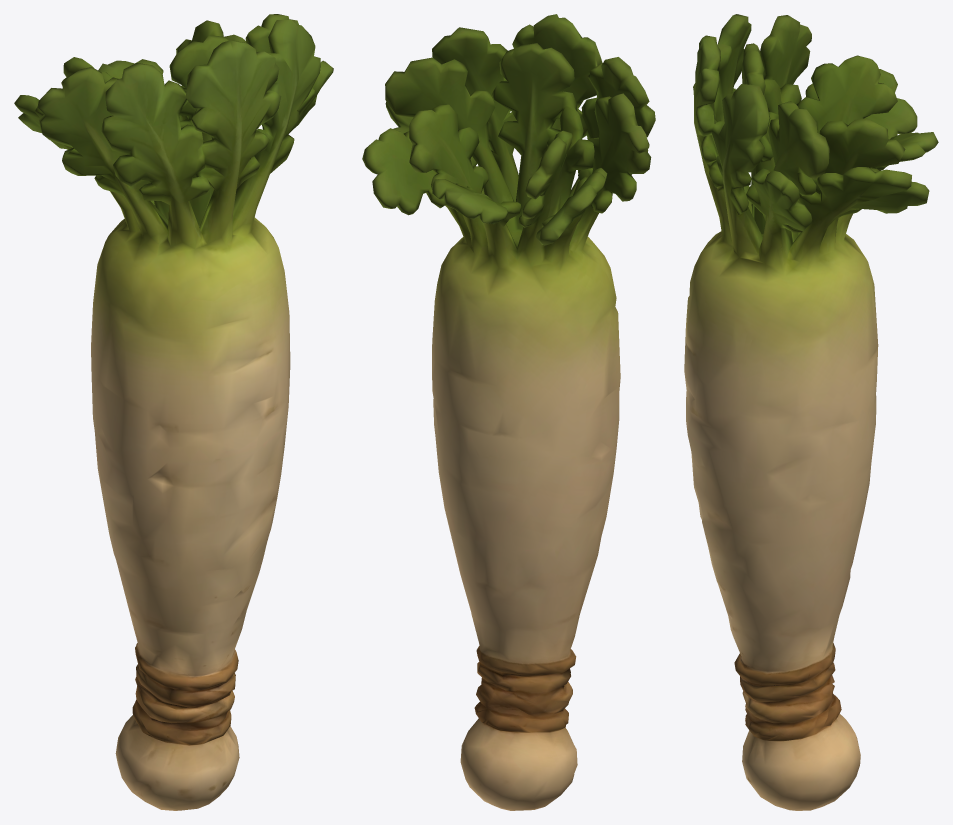
The model's file is daikon_club.glb.
3 renders of one model, left to right at view 1: azimuth 30°, elevation 25°; view 2: azimuth 150°, elevation 25°; view 3: azimuth 270°, elevation 25°, orthographic. The views are drawn at different scales.
Visible parts, largest first — view 1: tripo_node_46b4bb04-75f1-4282-bbe4-674e37eb0228; view 2: tripo_node_46b4bb04-75f1-4282-bbe4-674e37eb0228; view 3: tripo_node_46b4bb04-75f1-4282-bbe4-674e37eb0228.
Boxes of the visible parts, <box> form: tripo_node_46b4bb04-75f1-4282-bbe4-674e37eb0228: <box>14,14,333,810</box>; tripo_node_46b4bb04-75f1-4282-bbe4-674e37eb0228: <box>362,14,655,810</box>; tripo_node_46b4bb04-75f1-4282-bbe4-674e37eb0228: <box>684,14,938,810</box>.
Bounding box in the file's own units: 0.3762 × 1 × 0.2993.
1 material, 1 textured.
